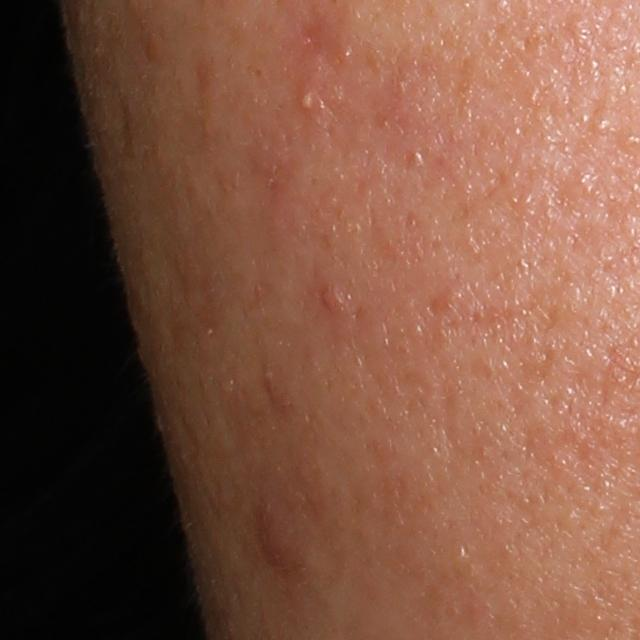comedo: (587, 112, 613, 134)
papule: (255, 495, 297, 565), (319, 276, 357, 315)
pustule: (291, 83, 326, 117)
